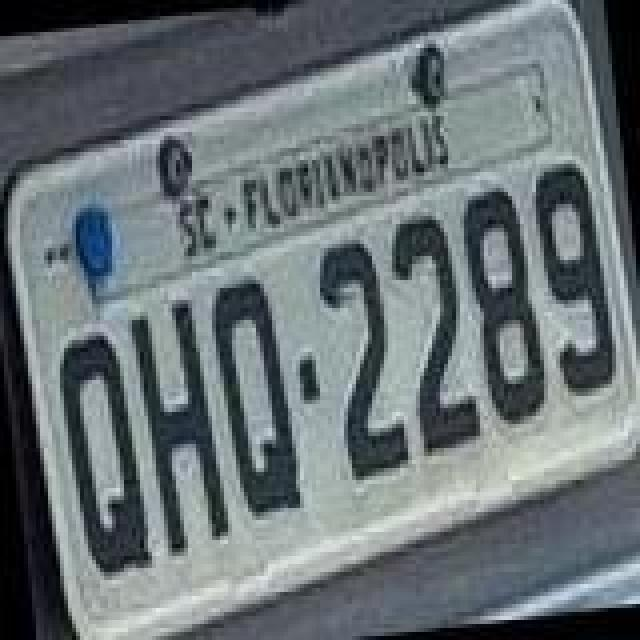2: (314, 234, 414, 486), (382, 210, 482, 454)
8: (454, 178, 554, 430)
9: (528, 154, 624, 398)
H: (126, 294, 234, 562)
Q: (52, 328, 156, 584), (206, 276, 306, 524)
